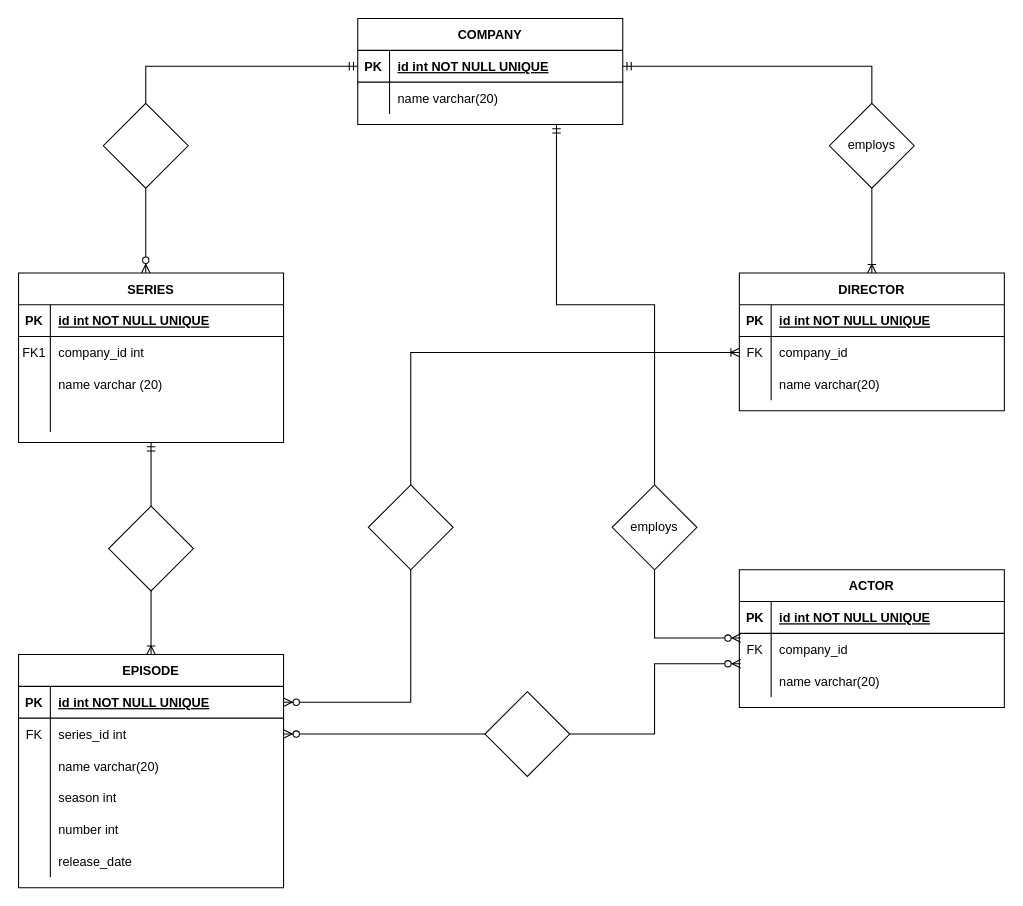
Image size: 1023x906. Some labels were removed from this diagram. Each missing label, with the centre of its shape:
appears: [527,733]
directs: [410,527]
has: [150,548]
promotes: [145,145]
